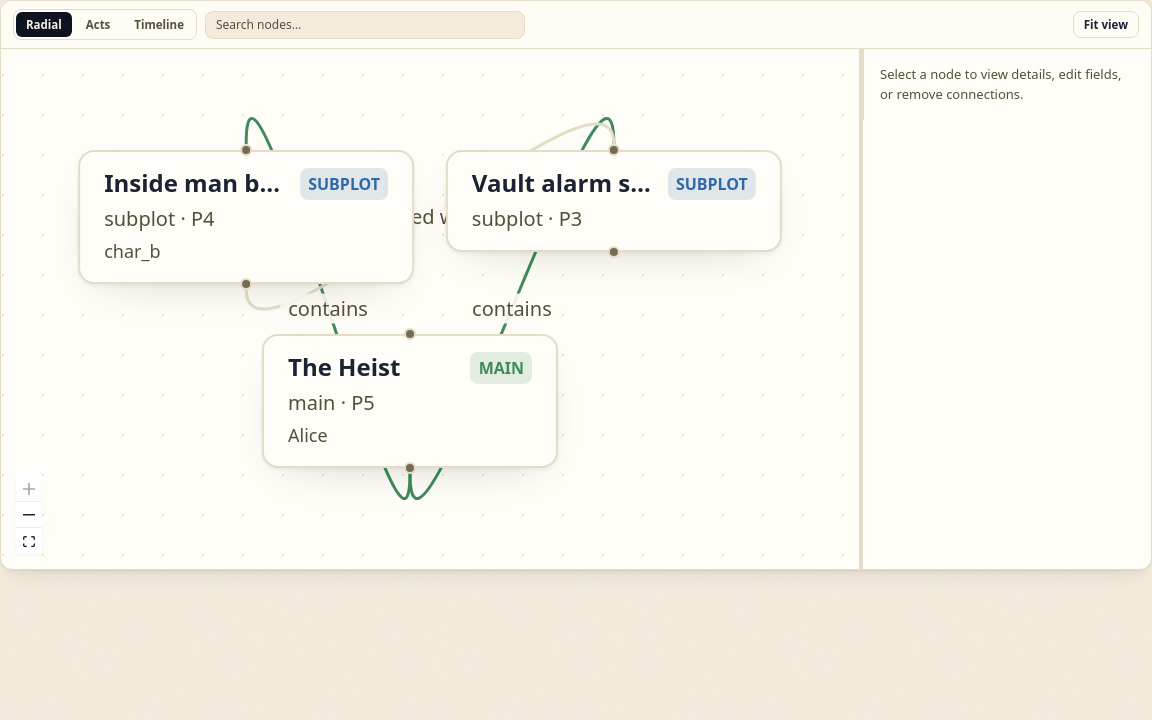
Test: timeline breadcrumb navigates act overview and chapter drill-down
Click the button "Timeline".
click(159, 25)  # box [124, 12, 194, 37]
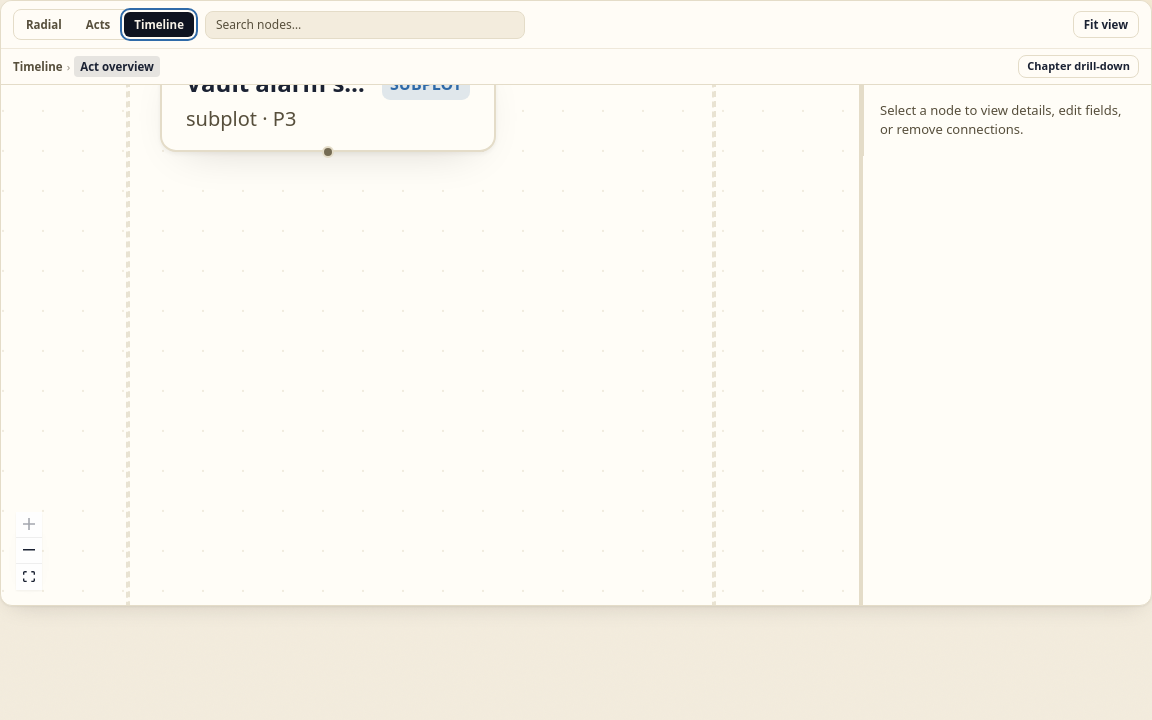
Now the navigation bar named "Timeline view" is shown, box [1, 48, 1151, 84]
Now the button "Act overview" is shown, box [74, 56, 160, 77]
Click the button "Chapter drill-down".
click(1079, 67)  # box [1018, 55, 1139, 78]
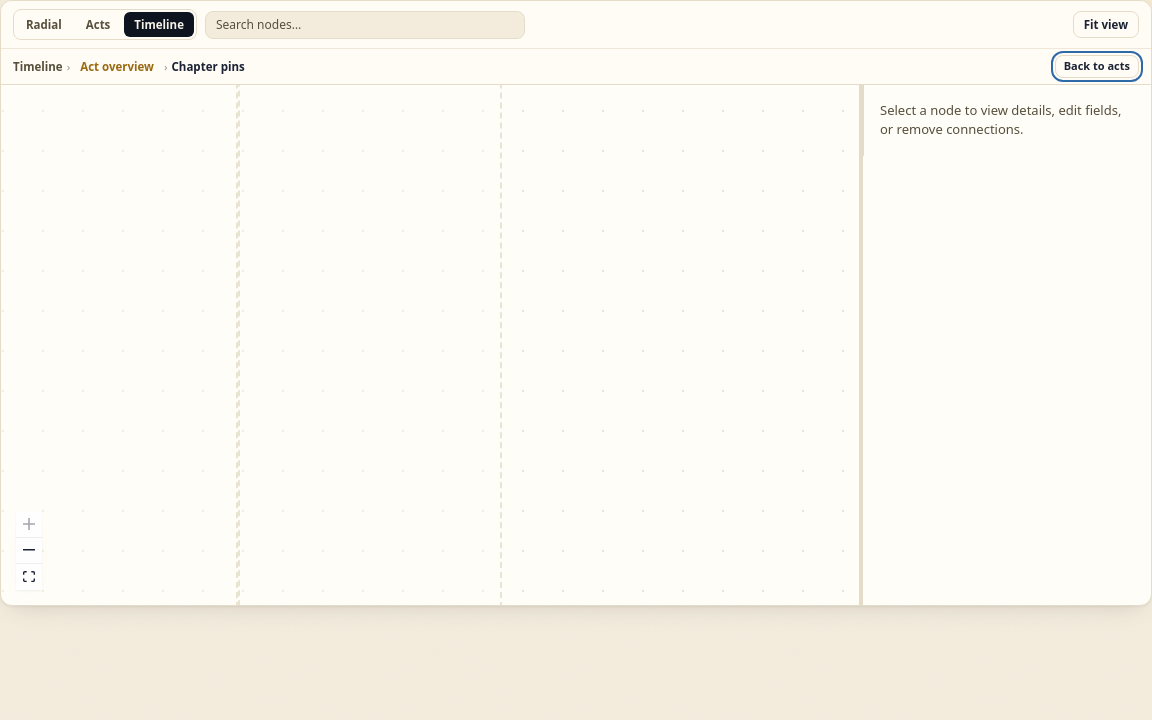
Now the text "Chapter pins" is shown, box [172, 58, 245, 75]
Click the button "Back to acts".
click(1097, 67)  # box [1055, 55, 1139, 78]
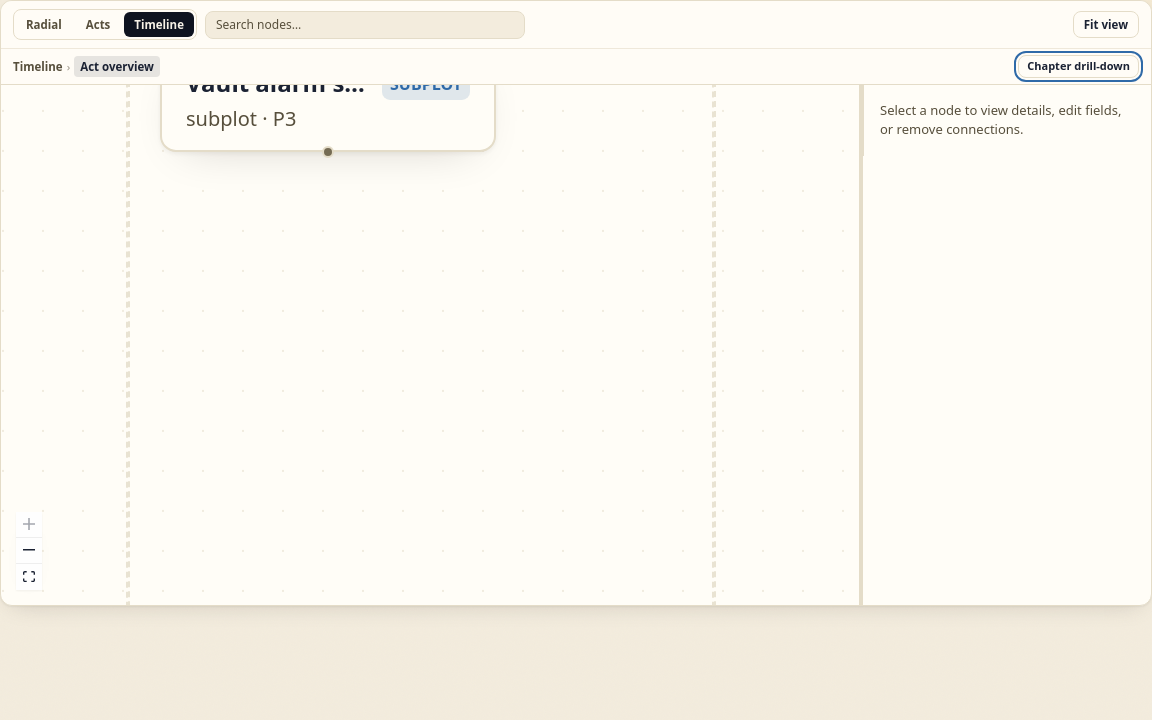
Now the text "Chapter pins" is gone
